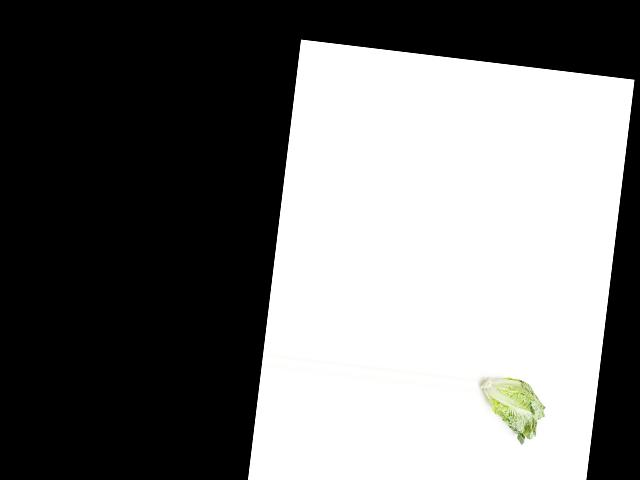lettuce: (476, 372, 551, 446)
